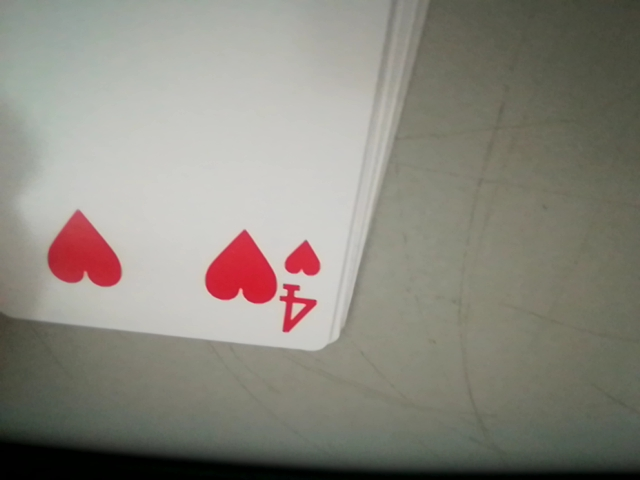hx 4: (280, 239, 320, 332)
